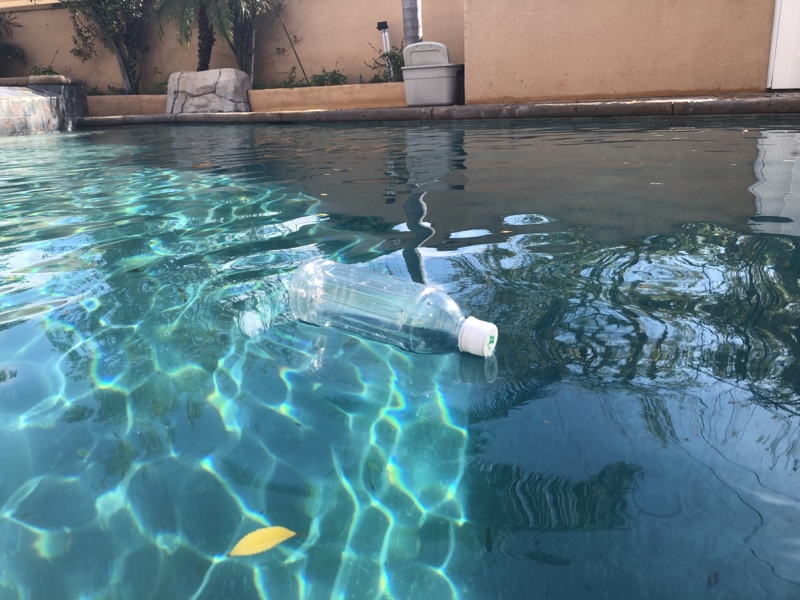Plastic Bottle: (287, 256, 501, 363)
